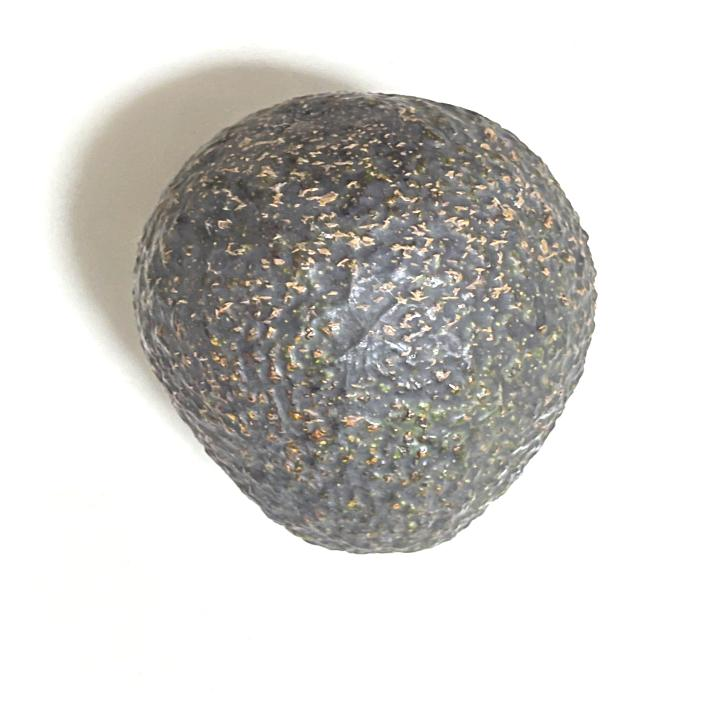Level1: (126, 81, 612, 570)
